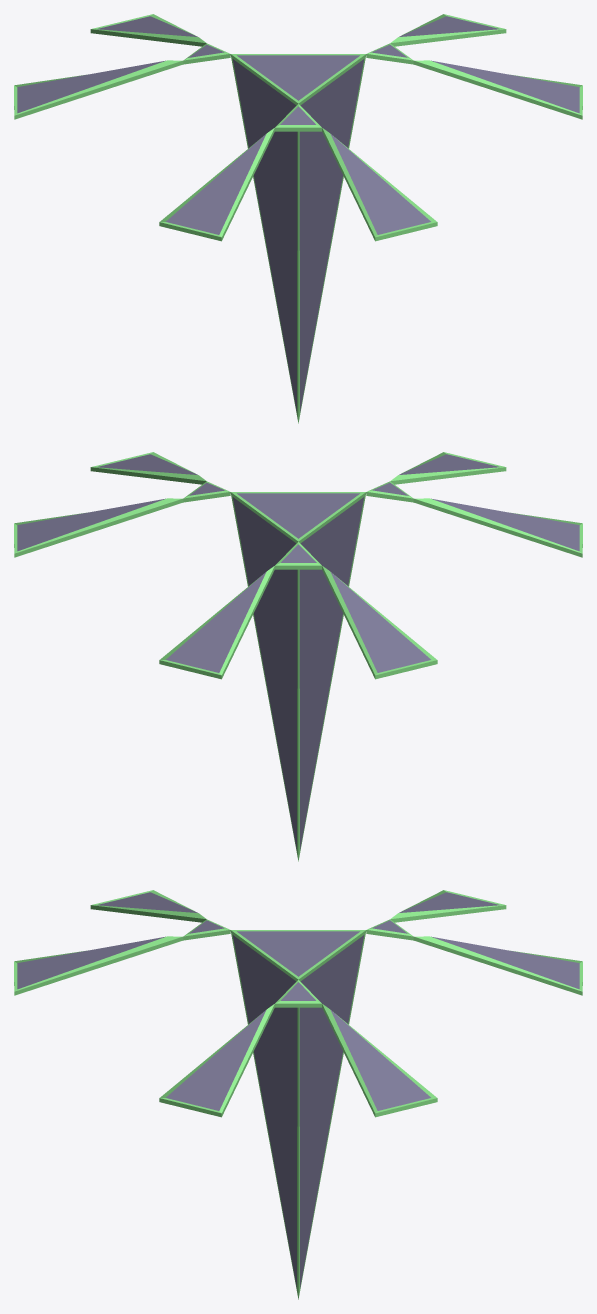
Rendered from Tyou_Hana.fbx.
3 views of the same model, one above another, from view 1: azimuth 30°, elevation 25°; view 2: azimuth 150°, elevation 25°; view 3: azimuth 270°, elevation 25° (orthographic).
Visible parts, largest first — view 1: Hana1; view 2: Hana1; view 3: Hana1.
Boxes of the visible parts, x1,y1,x2,y2 form: Hana1: (14,14,582,423); Hana1: (14,452,582,861); Hana1: (14,890,582,1299).
Bounding box in the file's own units: 6.73 × 4.97 × 7.25.
